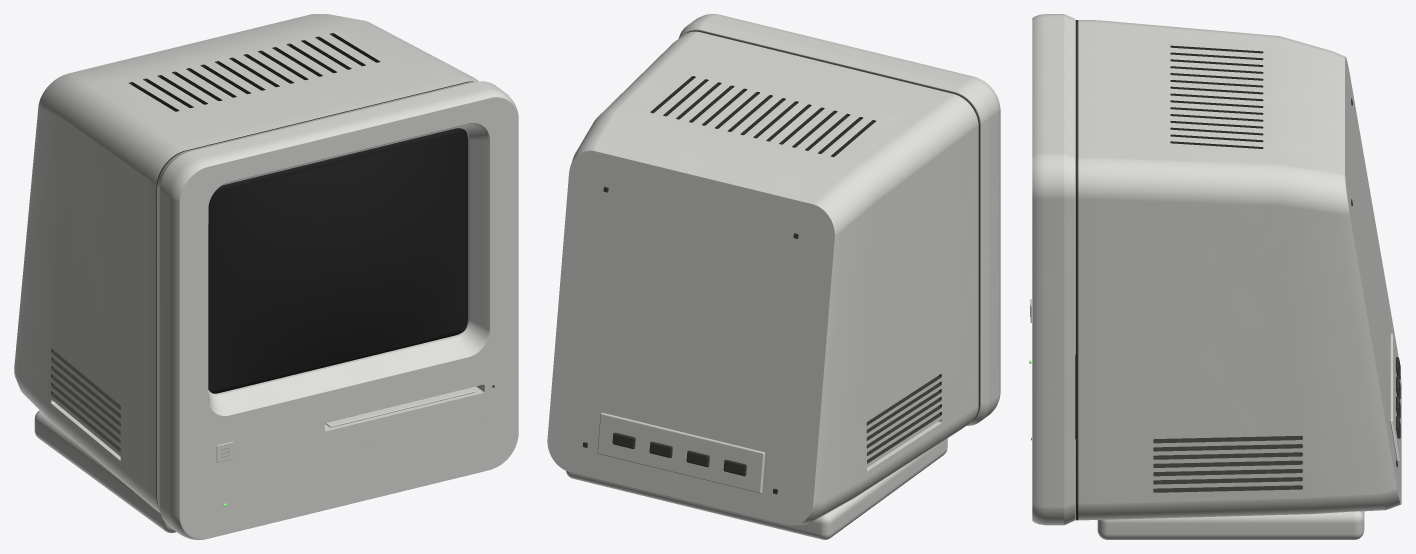
Rendered from computer.glb.
3 views of the same model, side by side, from view 1: azimuth 30°, elevation 25°; view 2: azimuth 150°, elevation 25°; view 3: azimuth 270°, elevation 25° (orthographic). The views are drawn at different scales.
Visible parts, largest first — view 1: Static · CRT · molded off-white front.001, Static · CRT · neutral off-white ABS.001, CRT_Screen, Static · CRT · graphite inner bezel.006, Static · Case · shadowed recesses.006; view 2: Static · CRT · neutral off-white ABS.001, Static · CRT · molded off-white front.001, Static · Case · shadowed recesses.006; view 3: Static · CRT · neutral off-white ABS.001, Static · CRT · molded off-white front.001, Static · Case · shadowed recesses.006.
Part boxes in pixels (x1,y1,x2,y2): Static · CRT · molded off-white front.001: (157,81,518,539); Static · CRT · neutral off-white ABS.001: (14,14,478,533); CRT_Screen: (212,134,463,388); Static · CRT · graphite inner bezel.006: (208,128,467,393); Static · Case · shadowed recesses.006: (156,81,494,509); Static · CRT · neutral off-white ABS.001: (547,31,978,539); Static · CRT · molded off-white front.001: (678,14,1000,425); Static · Case · shadowed recesses.006: (583,30,979,494); Static · CRT · neutral off-white ABS.001: (1030,20,1401,539); Static · CRT · molded off-white front.001: (1032,14,1075,525); Static · Case · shadowed recesses.006: (1031,20,1400,520).
Size of the model in its own units: 1.93 by 2.12 by 1.84.
Materials: 7 (2 with a texture image).
